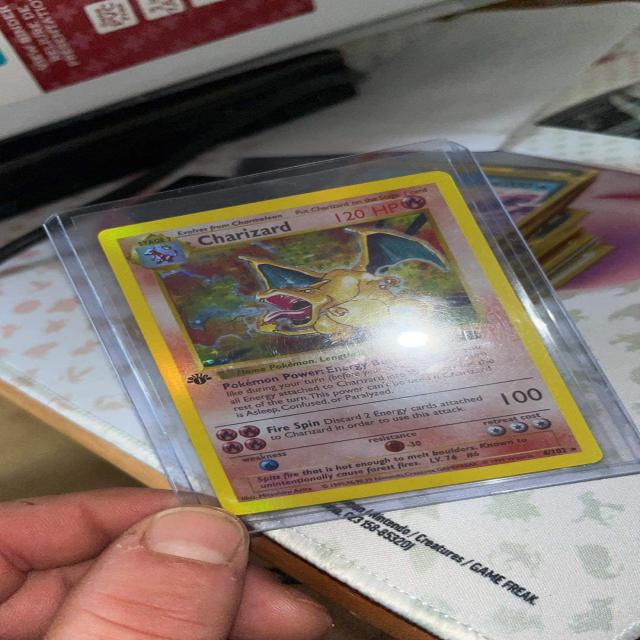card: (99, 169, 605, 516)
